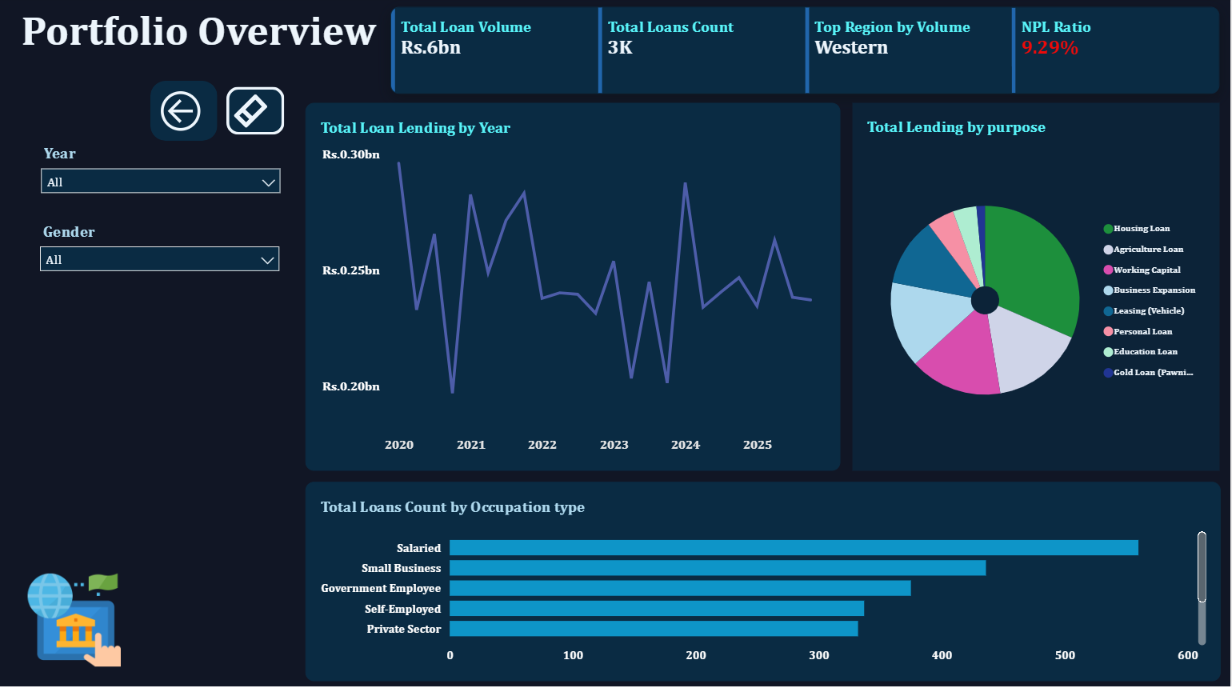

This screenshot's page, from the dashboard's own definition file:
{"tool":"powerbi","page":{"name":"Portfolio Overview","canvas":[1280,720],"ordinal":1},"visuals":[{"type":"textbox","box":[24,9.6,383.2,50.3],"z":0},{"type":"cardVisual","fields":{"Data":["Key Measures.Total Loan Volume","Key Measures.Total Loans Count","Key Measures.Top Region by Volume","Key Measures.NPL Ratio"]},"box":[407.4,10.4,861.6,90.4],"z":1000},{"type":"lineChart","title":"Total Loan Lending by Year","fields":{"Category":["Calender Table.Date.Variation.Date Hierarchy.Year","Calender Table.Date.Variation.Date Hierarchy.Quarter"],"Y":["Key Measures.Total Loan Volume"]},"box":[319.1,110.2,556,382.4],"z":2000},{"type":"donutChart","title":"Total Lending by purpose","fields":{"Category":["Loan_Details.loan purpose"],"Y":["Key Measures.Total Loan Volume"]},"box":[887.5,110.2,381.4,382.4],"z":3000},{"type":"slicer","fields":{"Values":["Calender Table.Fiscal Year"]},"box":[39.5,152.8,258.8,61.3],"z":4000},{"type":"slicer","fields":{"Values":["Customer_Details.Gender"]},"box":[38.5,233.8,258.8,57.2],"z":5000},{"type":"actionButton","box":[237,93.5,60.3,49.9],"z":6000},{"type":"barChart","fields":{"Category":["Customer_Details.Occupation type"],"Y":["Key Measures.Total Loans Count"]},"box":[318.6,504.2,950.9,207.2],"z":7000},{"type":"image","box":[0,584.1,158,126.8],"z":8000},{"type":"actionButton","box":[158,87.3,69.6,62.4],"z":9000}]}

Visuals, with their boxes in screenshot pixels (x1, y1, x2, y2), scaled from the page's 1280x720 canvas onto the 1232x687 screenshot:
textbox: box=[23, 9, 392, 57]
cardVisual - Key Measures.Total Loan Volume x Key Measures.Total Loans Count: box=[392, 10, 1221, 96]
"Total Loan Lending by Year" lineChart: box=[307, 105, 842, 470]
"Total Lending by purpose" donutChart: box=[854, 105, 1221, 470]
slicer - Calender Table.Fiscal Year: box=[38, 146, 287, 204]
slicer - Customer_Details.Gender: box=[37, 223, 286, 278]
actionButton: box=[228, 89, 286, 137]
barChart - Customer_Details.Occupation type x Key Measures.Total Loans Count: box=[307, 481, 1222, 679]
image: box=[0, 557, 152, 678]
actionButton: box=[152, 83, 219, 143]
